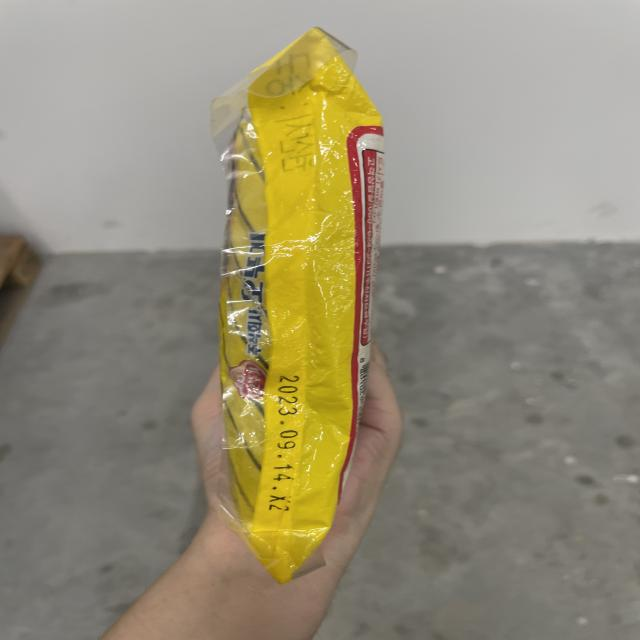object_name: (235, 75, 343, 557)
